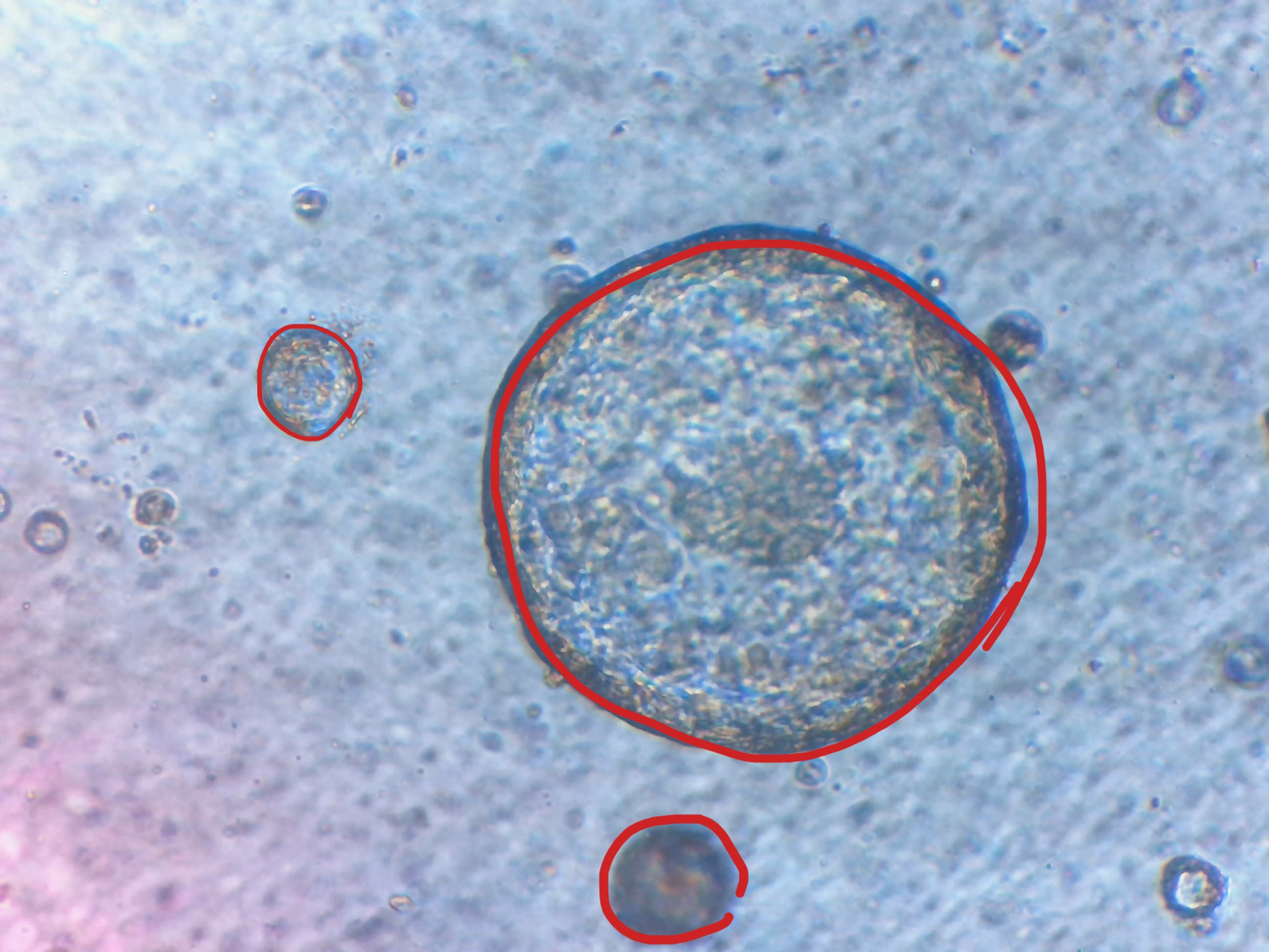organoid: (779, 391, 911, 537), (702, 667, 768, 725), (607, 178, 664, 225), (706, 168, 745, 214), (857, 312, 895, 348), (823, 349, 856, 381)
